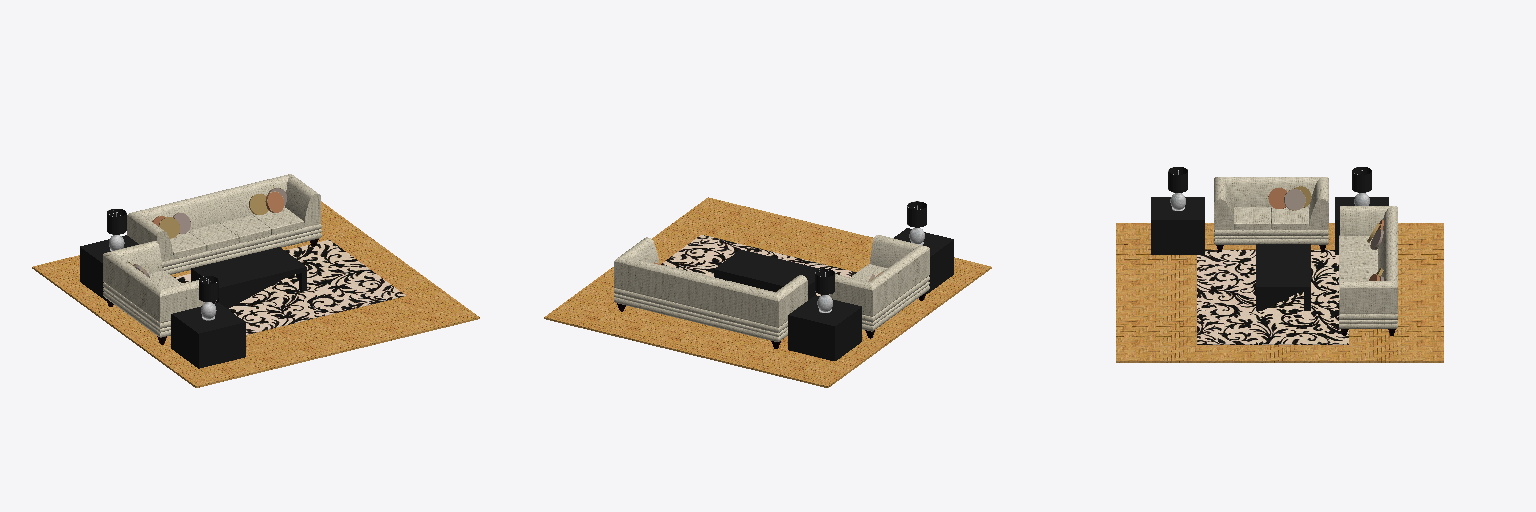
3 views of the same model, side by side, from view 1: azimuth 30°, elevation 25°; view 2: azimuth 150°, elevation 25°; view 3: azimuth 270°, elevation 25° (orthographic).
Visible parts, largest first — view 1: Mesh1 Group1 Interior_Furn_Set_LivingRm11pc1 Model, Mesh58 Interior_Fabric_RugArea0114_1 Interior_Furn_Set_LivingRm1, Mesh3 Group3 Interior_Furn_Set_Sofa8ft1 Interior_Furn_Set_Living, Mesh53 Group8 Interior_Furn_Set_LoveSeat01_1 Interior_Furn_Set_L, Mesh44 Interior_Furn_Set_TableEnd01_2 Interior_Furn_Set_LivingRm, Mesh49 Interior_Furn_Set_TableCoffee01_1 Interior_Furn_Set_Livin, Mesh2 Group2 Interior_Furn_Set_Sofa8ft1 Interior_Furn_Set_Living, Mesh43 Interior_Furn_Set_TableEnd01_1 Interior_Furn_Set_LivingRm, Mesh50 Group6 Interior_Furn_Set_LoveSeat01_1 Interior_Furn_Set_L, Mesh4 Superellipsoid1 Group4 Interior_Furn_Set_Sofa8ft1 Interior, Mesh5 Superellipsoid2 Group4 Interior_Furn_Set_Sofa8ft1 Interior, Mesh6 Superellipsoid3 Group4 Interior_Furn_Set_Sofa8ft1 Interior (+1 smaller); view 2: Mesh1 Group1 Interior_Furn_Set_LivingRm11pc1 Model, Mesh3 Group3 Interior_Furn_Set_Sofa8ft1 Interior_Furn_Set_Living, Mesh53 Group8 Interior_Furn_Set_LoveSeat01_1 Interior_Furn_Set_L, Mesh43 Interior_Furn_Set_TableEnd01_1 Interior_Furn_Set_LivingRm, Mesh49 Interior_Furn_Set_TableCoffee01_1 Interior_Furn_Set_Livin, Mesh2 Group2 Interior_Furn_Set_Sofa8ft1 Interior_Furn_Set_Living, Mesh58 Interior_Fabric_RugArea0114_1 Interior_Furn_Set_LivingRm1, Mesh44 Interior_Furn_Set_TableEnd01_2 Interior_Furn_Set_LivingRm, Mesh50 Group6 Interior_Furn_Set_LoveSeat01_1 Interior_Furn_Set_L; view 3: Mesh1 Group1 Interior_Furn_Set_LivingRm11pc1 Model, Mesh58 Interior_Fabric_RugArea0114_1 Interior_Furn_Set_LivingRm1, Mesh3 Group3 Interior_Furn_Set_Sofa8ft1 Interior_Furn_Set_Living, Mesh53 Group8 Interior_Furn_Set_LoveSeat01_1 Interior_Furn_Set_L, Mesh49 Interior_Furn_Set_TableCoffee01_1 Interior_Furn_Set_Livin, Mesh44 Interior_Furn_Set_TableEnd01_2 Interior_Furn_Set_LivingRm, Mesh50 Group6 Interior_Furn_Set_LoveSeat01_1 Interior_Furn_Set_L, Mesh2 Group2 Interior_Furn_Set_Sofa8ft1 Interior_Furn_Set_Living, Mesh52 Superellipsoid6 Group7 Interior_Furn_Set_LoveSeat01_1 Int, Mesh51 Superellipsoid5 Group7 Interior_Furn_Set_LoveSeat01_1 Int, Mesh4 Superellipsoid1 Group4 Interior_Furn_Set_Sofa8ft1 Interior, Mesh43 Interior_Furn_Set_TableEnd01_1 Interior_Furn_Set_LivingRm.
Part boxes in pixels (left/top/right/bottom): Mesh1 Group1 Interior_Furn_Set_LivingRm11pc1 Model: left=32, top=201, right=479, bottom=387; Mesh58 Interior_Fabric_RugArea0114_1 Interior_Furn_Set_LivingRm1: left=174, top=240, right=405, bottom=334; Mesh3 Group3 Interior_Furn_Set_Sofa8ft1 Interior_Furn_Set_Living: left=127, top=174, right=320, bottom=261; Mesh53 Group8 Interior_Furn_Set_LoveSeat01_1 Interior_Furn_Set_L: left=103, top=241, right=204, bottom=322; Mesh44 Interior_Furn_Set_TableEnd01_2 Interior_Furn_Set_LivingRm: left=171, top=302, right=245, bottom=368; Mesh49 Interior_Furn_Set_TableCoffee01_1 Interior_Furn_Set_Livin: left=191, top=247, right=306, bottom=308; Mesh2 Group2 Interior_Furn_Set_Sofa8ft1 Interior_Furn_Set_Living: left=162, top=224, right=321, bottom=274; Mesh43 Interior_Furn_Set_TableEnd01_1 Interior_Furn_Set_LivingRm: left=80, top=235, right=138, bottom=300; Mesh50 Group6 Interior_Furn_Set_LoveSeat01_1 Interior_Furn_Set_L: left=103, top=283, right=170, bottom=337; Mesh4 Superellipsoid1 Group4 Interior_Furn_Set_Sofa8ft1 Interior: left=188, top=223, right=238, bottom=250; Mesh5 Superellipsoid2 Group4 Interior_Furn_Set_Sofa8ft1 Interior: left=220, top=215, right=270, bottom=242; Mesh6 Superellipsoid3 Group4 Interior_Furn_Set_Sofa8ft1 Interior: left=253, top=207, right=303, bottom=234; Mesh1 Group1 Interior_Furn_Set_LivingRm11pc1 Model: left=544, top=197, right=991, bottom=387; Mesh3 Group3 Interior_Furn_Set_Sofa8ft1 Interior_Furn_Set_Living: left=614, top=237, right=807, bottom=327; Mesh53 Group8 Interior_Furn_Set_LoveSeat01_1 Interior_Furn_Set_L: left=829, top=235, right=929, bottom=316; Mesh43 Interior_Furn_Set_TableEnd01_1 Interior_Furn_Set_LivingRm: left=788, top=295, right=861, bottom=360; Mesh49 Interior_Furn_Set_TableCoffee01_1 Interior_Furn_Set_Livin: left=714, top=250, right=821, bottom=299; Mesh2 Group2 Interior_Furn_Set_Sofa8ft1 Interior_Furn_Set_Living: left=614, top=288, right=787, bottom=341; Mesh58 Interior_Fabric_RugArea0114_1 Interior_Furn_Set_LivingRm1: left=661, top=235, right=856, bottom=295; Mesh44 Interior_Furn_Set_TableEnd01_2 Interior_Furn_Set_LivingRm: left=894, top=228, right=953, bottom=293; Mesh50 Group6 Interior_Furn_Set_LoveSeat01_1 Interior_Furn_Set_L: left=862, top=276, right=929, bottom=331; Mesh1 Group1 Interior_Furn_Set_LivingRm11pc1 Model: left=1116, top=223, right=1443, bottom=362; Mesh58 Interior_Fabric_RugArea0114_1 Interior_Furn_Set_LivingRm1: left=1197, top=250, right=1348, bottom=344; Mesh3 Group3 Interior_Furn_Set_Sofa8ft1 Interior_Furn_Set_Living: left=1340, top=206, right=1397, bottom=313; Mesh53 Group8 Interior_Furn_Set_LoveSeat01_1 Interior_Furn_Set_L: left=1214, top=177, right=1328, bottom=229; Mesh49 Interior_Furn_Set_TableCoffee01_1 Interior_Furn_Set_Livin: left=1256, top=244, right=1310, bottom=310; Mesh44 Interior_Furn_Set_TableEnd01_2 Interior_Furn_Set_LivingRm: left=1151, top=197, right=1204, bottom=254; Mesh50 Group6 Interior_Furn_Set_LoveSeat01_1 Interior_Furn_Set_L: left=1214, top=229, right=1328, bottom=244; Mesh2 Group2 Interior_Furn_Set_Sofa8ft1 Interior_Furn_Set_Living: left=1339, top=235, right=1397, bottom=328; Mesh52 Superellipsoid6 Group7 Interior_Furn_Set_LoveSeat01_1 Int: left=1234, top=207, right=1270, bottom=229; Mesh51 Superellipsoid5 Group7 Interior_Furn_Set_LoveSeat01_1 Int: left=1271, top=207, right=1308, bottom=229; Mesh4 Superellipsoid1 Group4 Interior_Furn_Set_Sofa8ft1 Interior: left=1339, top=252, right=1377, bottom=267; Mesh43 Interior_Furn_Set_TableEnd01_1 Interior_Furn_Set_LivingRm: left=1335, top=197, right=1388, bottom=254.
Size of the model in its own units: 166 by 42.07 by 166.
11 materials, 6 textured.